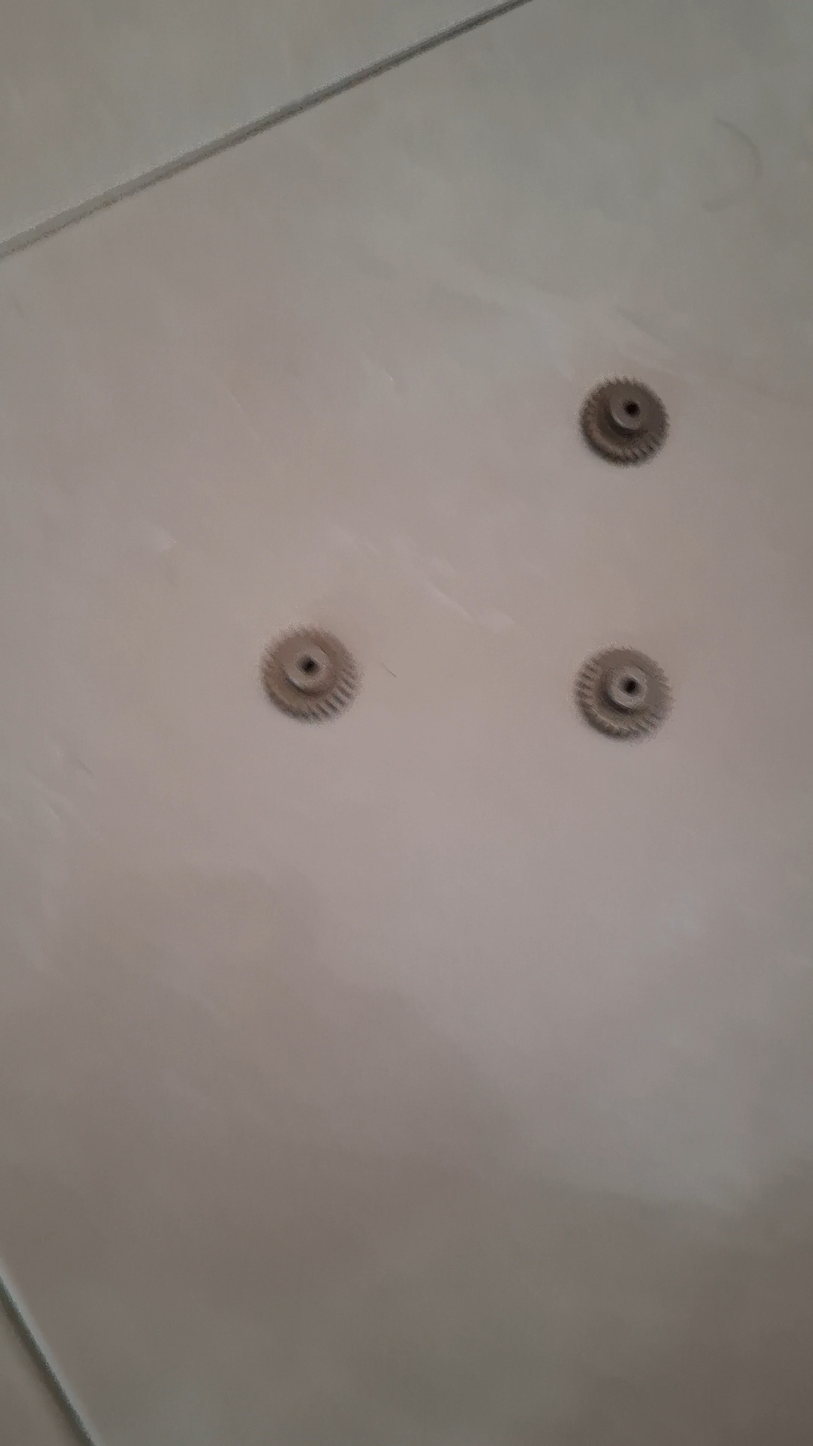spur gear: (261, 628, 359, 721), (575, 648, 671, 739), (580, 379, 668, 464)
